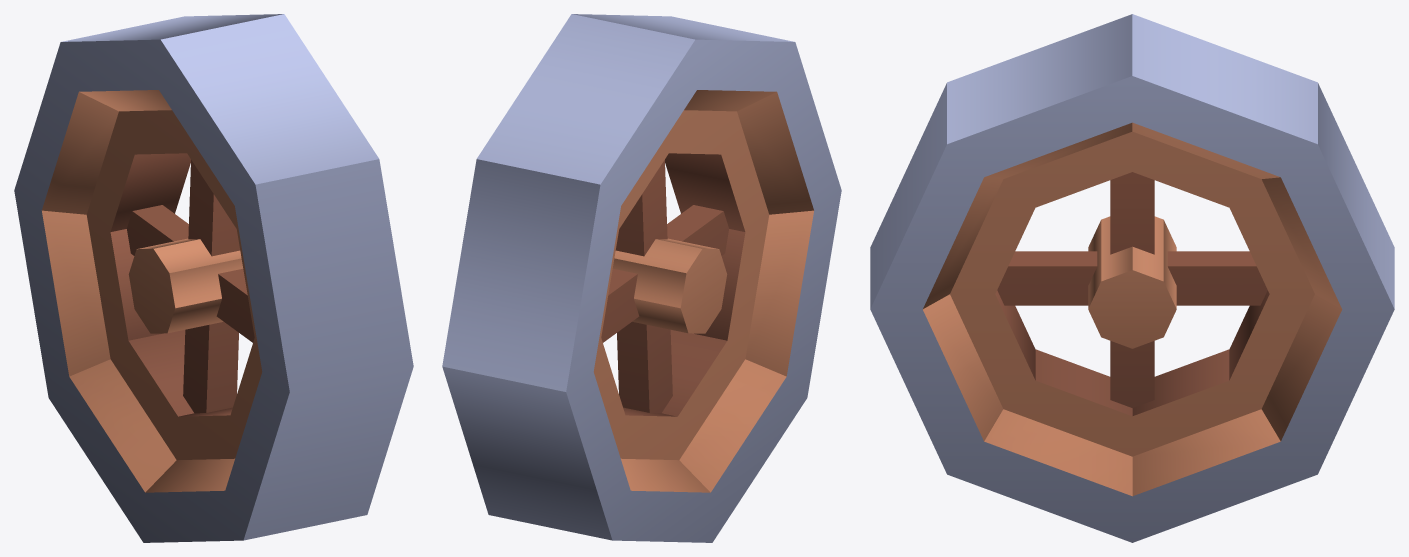
Rendered from group_lev2.glb.
The picture shows the model from 3 angles, left to right: view 1: azimuth 30°, elevation 25°; view 2: azimuth 150°, elevation 25°; view 3: azimuth 270°, elevation 25°; orthographic projection. The views are drawn at different scales.
Visible parts, largest first — view 1: group_lev2; view 2: group_lev2; view 3: group_lev2.
Part boxes in pixels (x1,y1,x2,y2): group_lev2: (14,14,413,542); group_lev2: (442,14,841,542); group_lev2: (870,14,1394,542).
Bounding box in the file's own units: 0.1795 × 0.6131 × 0.6079.
1 material, 1 textured.
